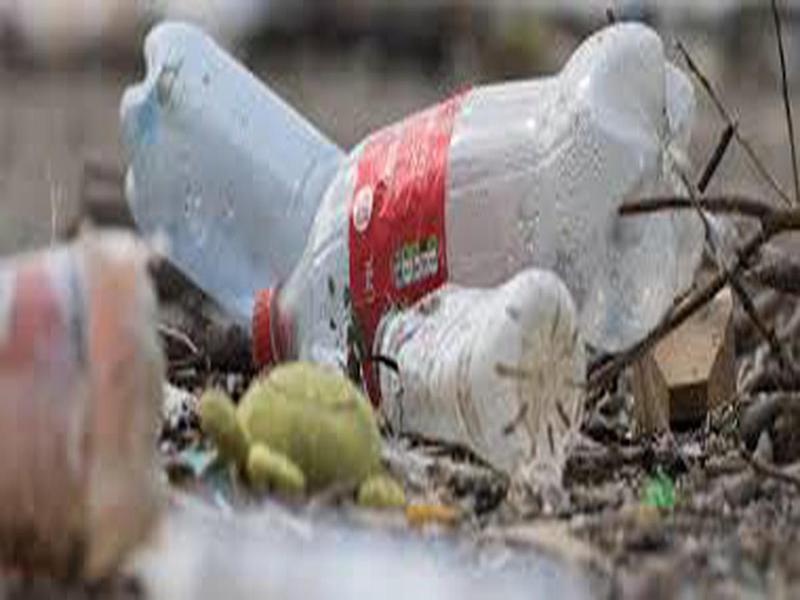bottle: (247, 22, 713, 366), (365, 267, 593, 486)
